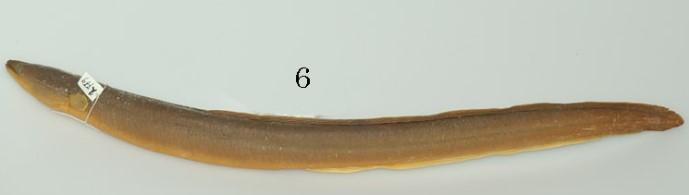Freshwater Eel: (6, 53, 687, 176)
